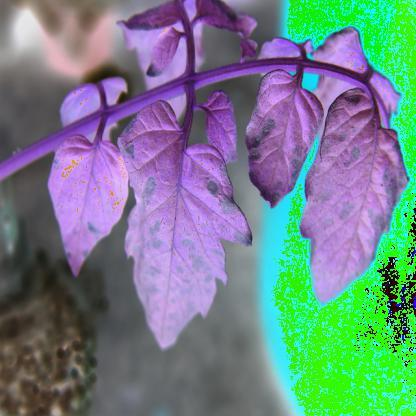Tomato mold leaf: (111, 104, 251, 360), (294, 90, 412, 310), (44, 137, 132, 278), (245, 71, 324, 214)
